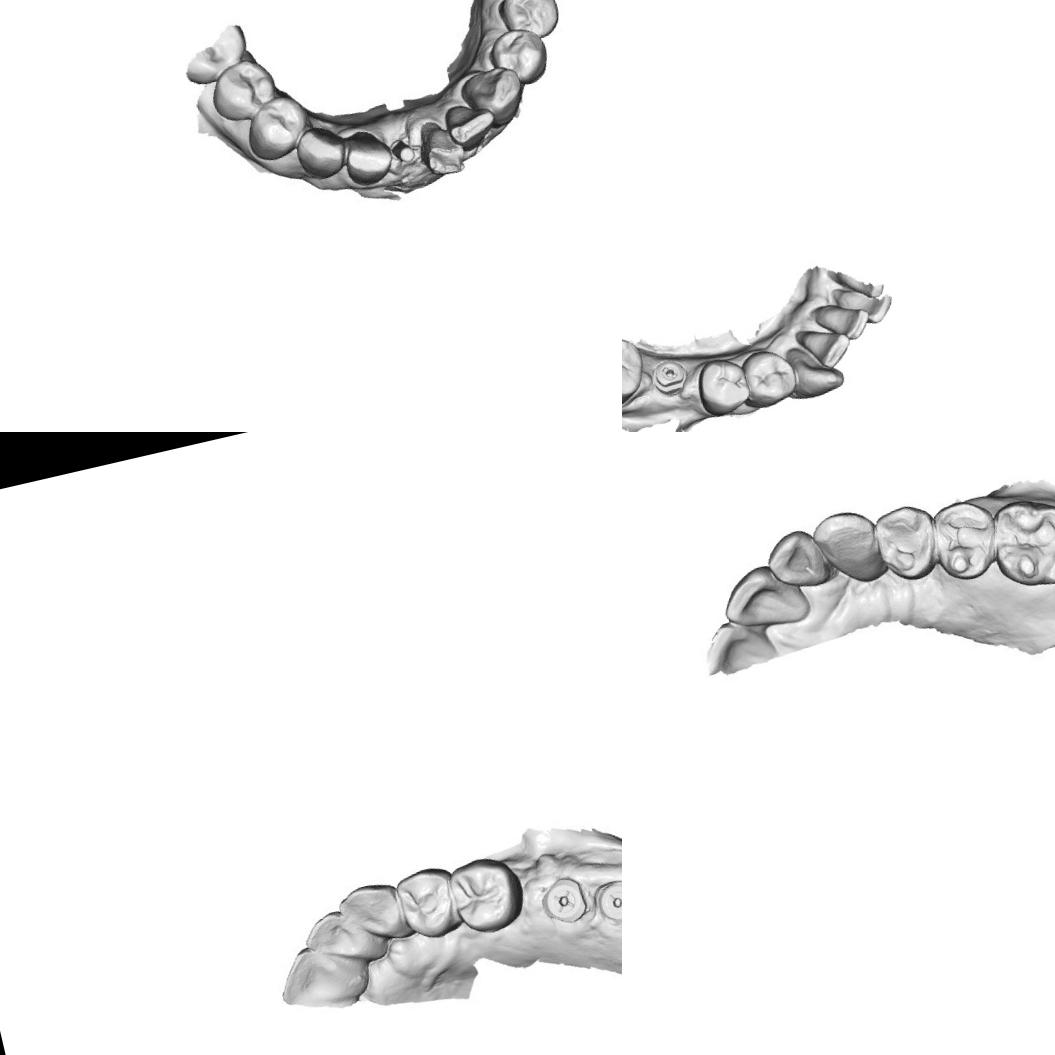abutment: (386, 132, 419, 176)
canine: (813, 507, 894, 594), (336, 880, 410, 950), (458, 60, 530, 128), (782, 337, 849, 404), (290, 119, 354, 185)
implant_minus: (646, 353, 692, 399), (592, 872, 622, 924)
implant_plus: (539, 868, 591, 930)
incisor: (268, 939, 370, 1016), (719, 560, 811, 637), (300, 907, 386, 974), (766, 528, 830, 594), (334, 124, 395, 190), (415, 118, 472, 181), (797, 318, 856, 376), (832, 280, 896, 332), (442, 96, 498, 154), (815, 297, 875, 348)
molar: (442, 849, 524, 939), (987, 493, 1055, 591), (928, 497, 1001, 578), (395, 865, 462, 938), (622, 324, 653, 418)
premolar: (240, 90, 313, 168), (869, 502, 938, 584), (204, 53, 282, 124), (485, 21, 556, 92), (689, 350, 754, 422), (737, 344, 803, 412), (491, 0, 565, 50)
